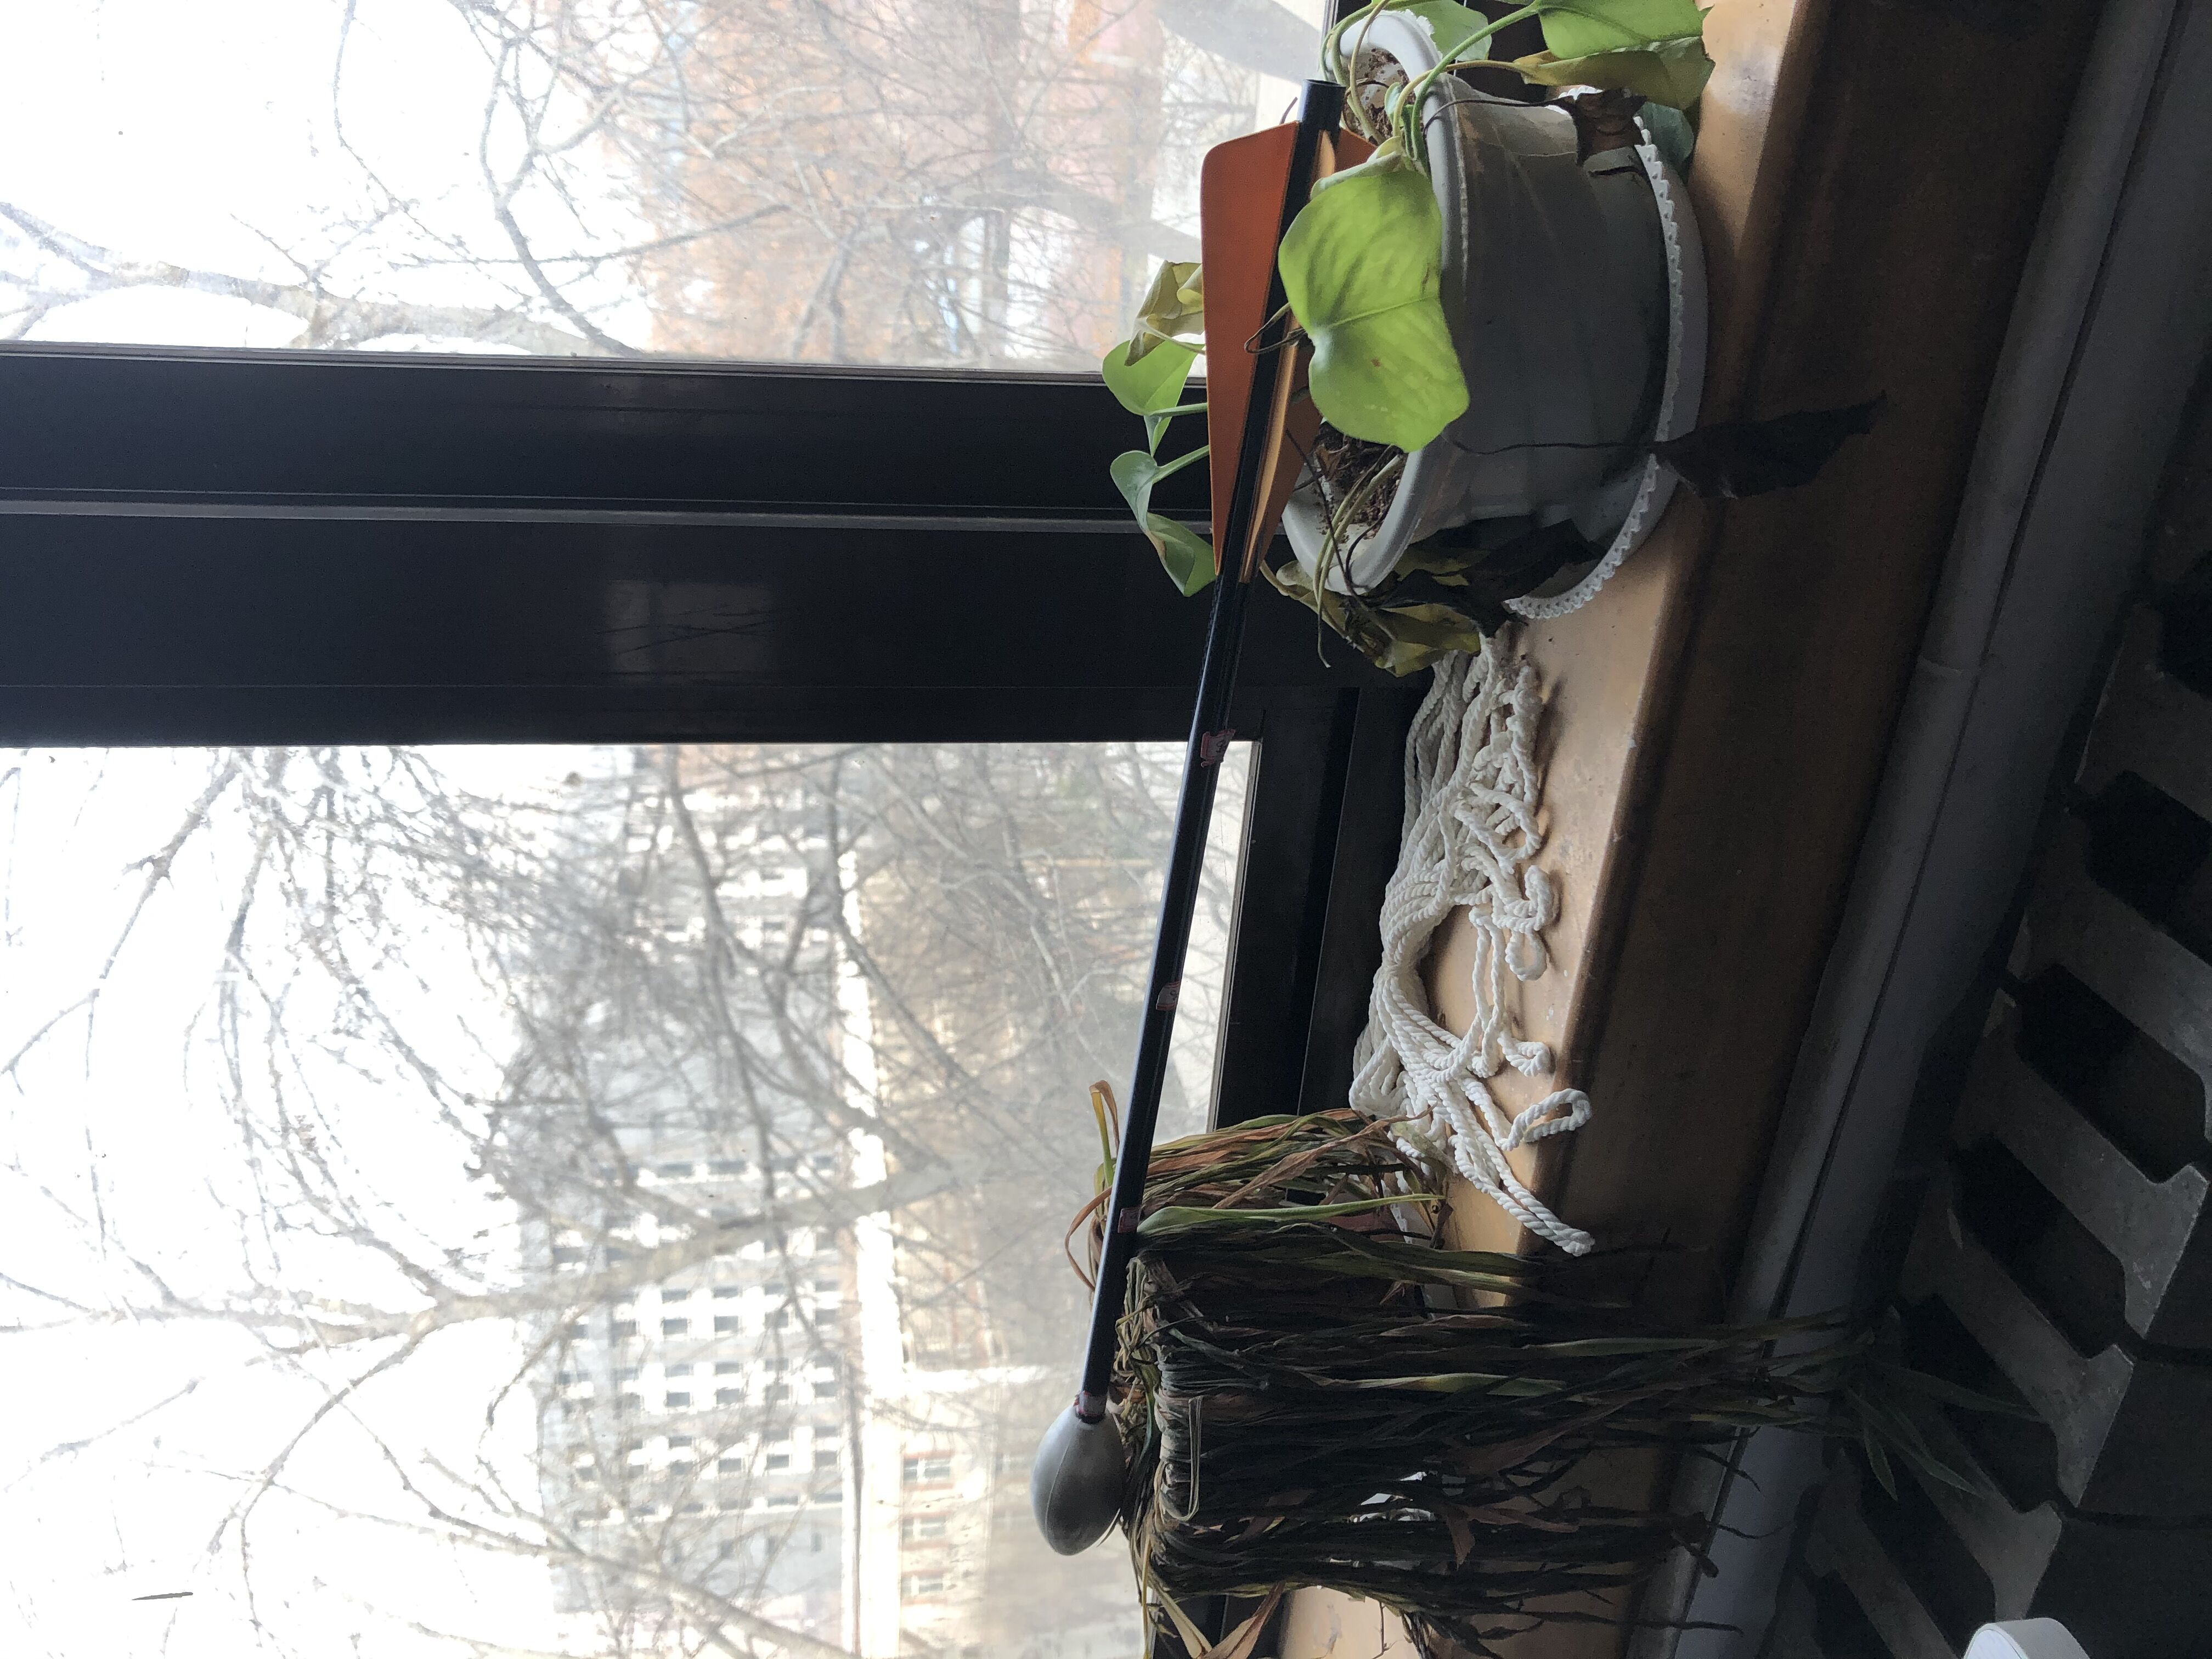arrow: (1033, 77, 1350, 1561)
arrowFront: (1033, 1405, 1127, 1563)
